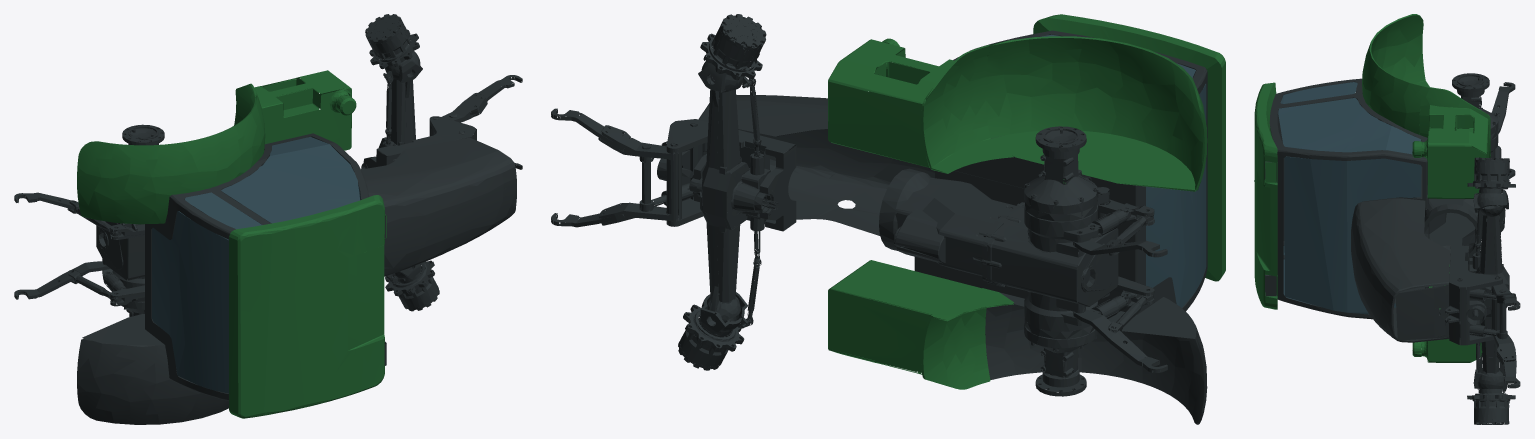
Rendered from vehicle_visual.obj.
3 views of the same model, side by side, from view 1: azimuth 30°, elevation 25°; view 2: azimuth 150°, elevation 25°; view 3: azimuth 270°, elevation 25° (orthographic). The views are drawn at different scales.
Parts seen in each view (by area): view 1: solid_124, solid_36, solid_131, solid_128, solid_205, solid_125, solid_212, solid_123, solid_70, solid_0, solid_1, solid_23 (+10 smaller); view 2: solid_131, solid_212, solid_213, solid_36, solid_205, solid_70, solid_92, solid_123, solid_124, solid_1, solid_128, solid_0 (+15 smaller); view 3: solid_127, solid_36, solid_212, solid_131, solid_125, solid_123, solid_124, solid_0, solid_1, solid_92, solid_35, solid_213 (+11 smaller).
Part boxes in pixels (bbox=[...]): solid_124: bbox=[229, 195, 385, 418]; solid_36: bbox=[361, 137, 516, 276]; solid_131: bbox=[77, 96, 265, 224]; solid_128: bbox=[152, 211, 228, 393]; solid_205: bbox=[77, 313, 228, 424]; solid_125: bbox=[221, 137, 359, 223]; solid_212: bbox=[234, 70, 356, 150]; solid_123: bbox=[145, 133, 368, 400]; solid_70: bbox=[96, 221, 144, 294]; solid_0: bbox=[363, 116, 476, 168]; solid_1: bbox=[386, 62, 415, 269]; solid_23: bbox=[385, 260, 437, 307]; solid_131: bbox=[985, 36, 1207, 191]; solid_212: bbox=[828, 38, 1013, 173]; solid_213: bbox=[828, 260, 1013, 389]; solid_36: bbox=[698, 95, 934, 235]; solid_205: bbox=[985, 292, 1207, 424]; solid_70: bbox=[986, 204, 1118, 331]; solid_92: bbox=[879, 168, 1024, 284]; solid_123: bbox=[914, 30, 1207, 314]; solid_124: bbox=[1033, 14, 1225, 281]; solid_1: bbox=[689, 74, 742, 324]; solid_128: bbox=[1146, 84, 1206, 307]; solid_0: bbox=[666, 119, 796, 231]; solid_127: bbox=[1284, 156, 1421, 314]; solid_36: bbox=[1351, 198, 1450, 342]; solid_212: bbox=[1412, 86, 1490, 198]; solid_131: bbox=[1362, 14, 1429, 134]; solid_125: bbox=[1278, 98, 1420, 154]; solid_123: bbox=[1269, 78, 1428, 319]; solid_124: bbox=[1254, 82, 1277, 309]; solid_0: bbox=[1445, 245, 1502, 345]; solid_1: bbox=[1476, 205, 1509, 376]; solid_92: bbox=[1424, 198, 1505, 259]; solid_35: bbox=[1395, 284, 1448, 340]; solid_213: bbox=[1412, 264, 1482, 362].
Size of the model in its own units: 5.71 by 3.17 by 2.9.
